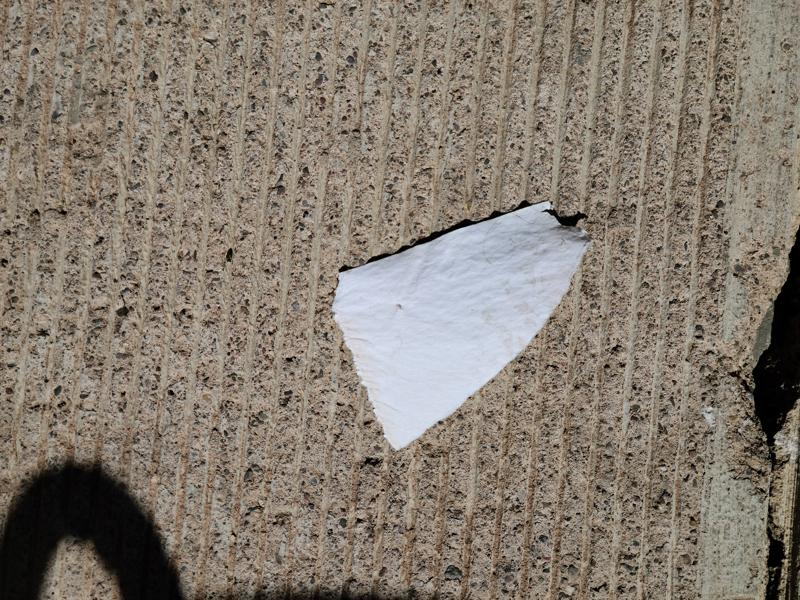papel: (332, 204, 591, 451)
